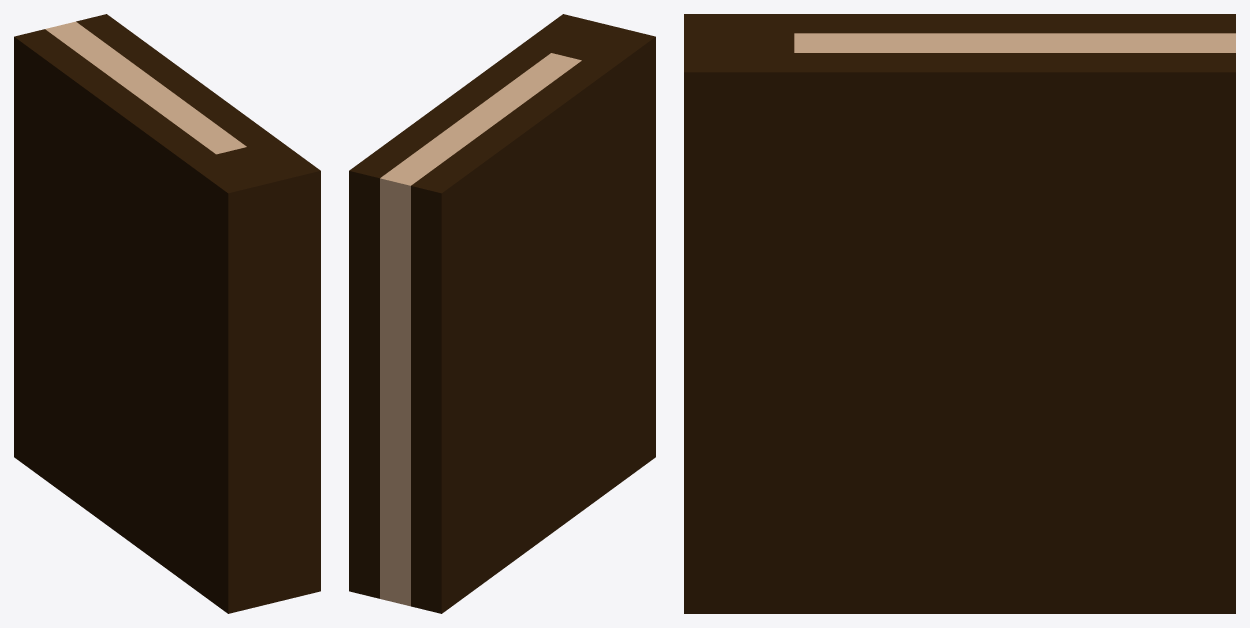
Rendered from livre4.fbx.
The picture shows the model from 3 angles, left to right: view 1: azimuth 30°, elevation 25°; view 2: azimuth 150°, elevation 25°; view 3: azimuth 270°, elevation 25°; orthographic projection. The views are drawn at different scales.
Visible parts, largest first — view 1: Livre 4; view 2: Livre 4; view 3: Livre 4.
Part boxes in pixels (x1=…): Livre 4: x1=14, y1=14, x2=320, y2=613; Livre 4: x1=349, y1=14, x2=655, y2=613; Livre 4: x1=684, y1=14, x2=1235, y2=613.
Size of the model in its own units: 6 by 26 by 24.
Materials: 1 (1 with a texture image).
